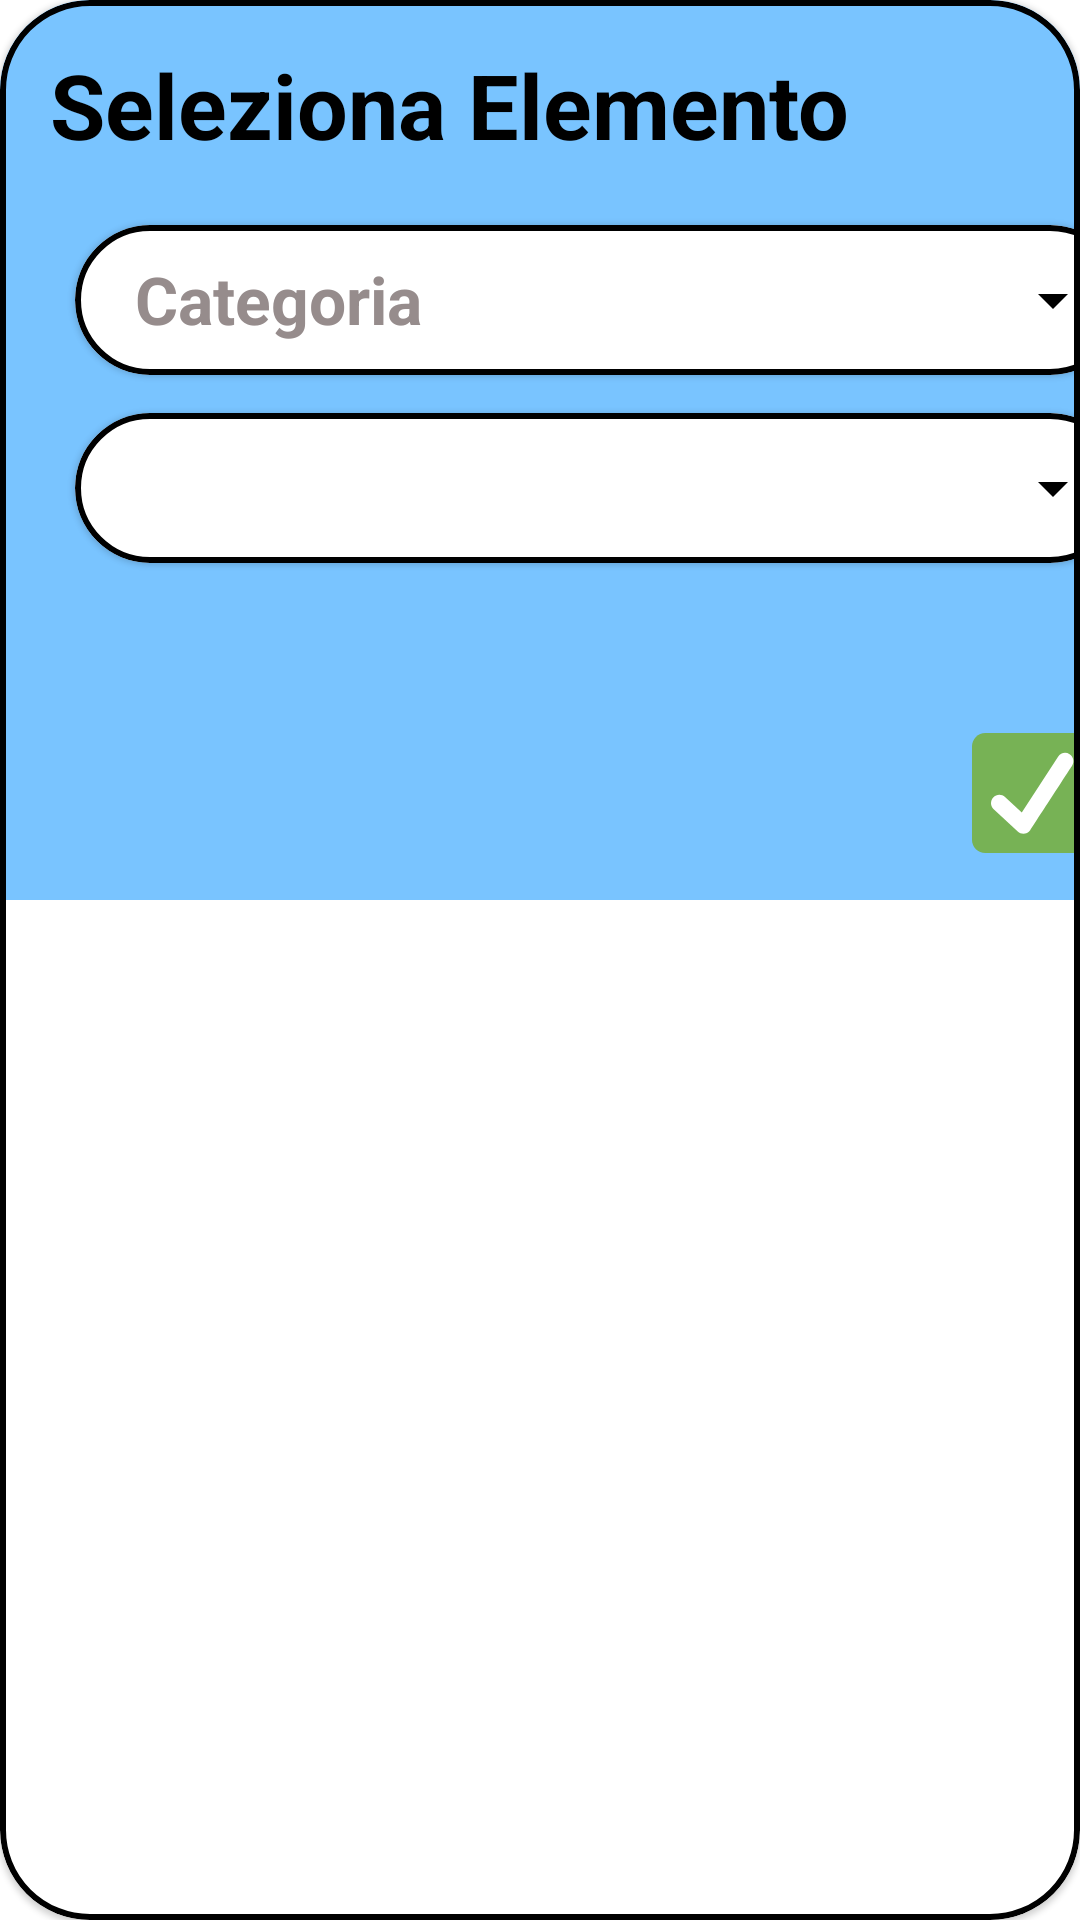

Screen size 1080*1920. Icon name, then its box in pixels as BBox(x1, y1, x2, y2):
confirmvector: BBox(972, 733, 1080, 853)
